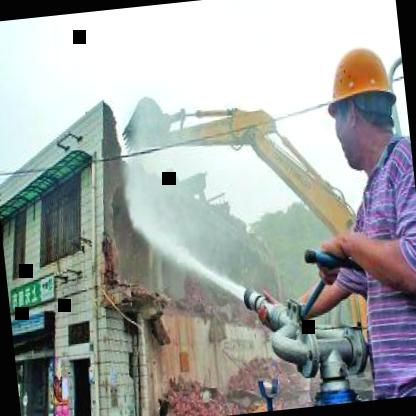helmet: (314, 25, 404, 176)
